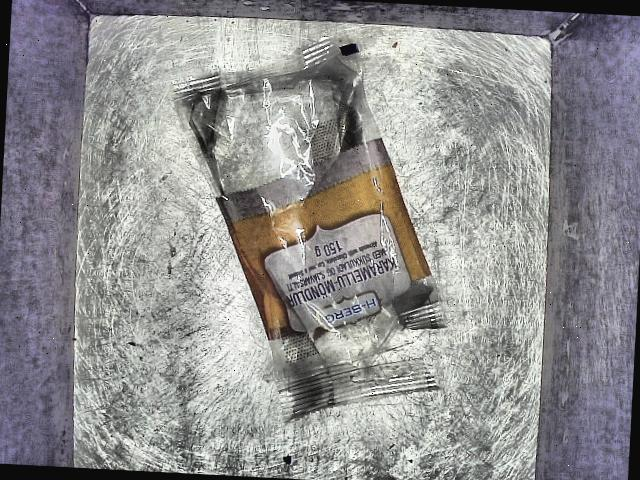Plastic: (158, 32, 470, 412)
